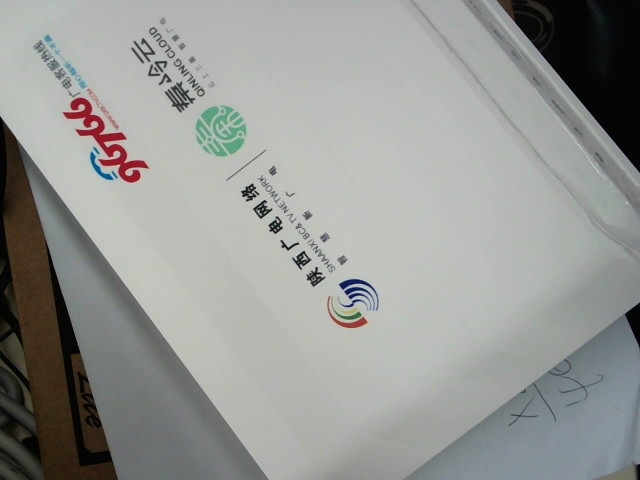AE_QinLing: (128, 13, 249, 159)
